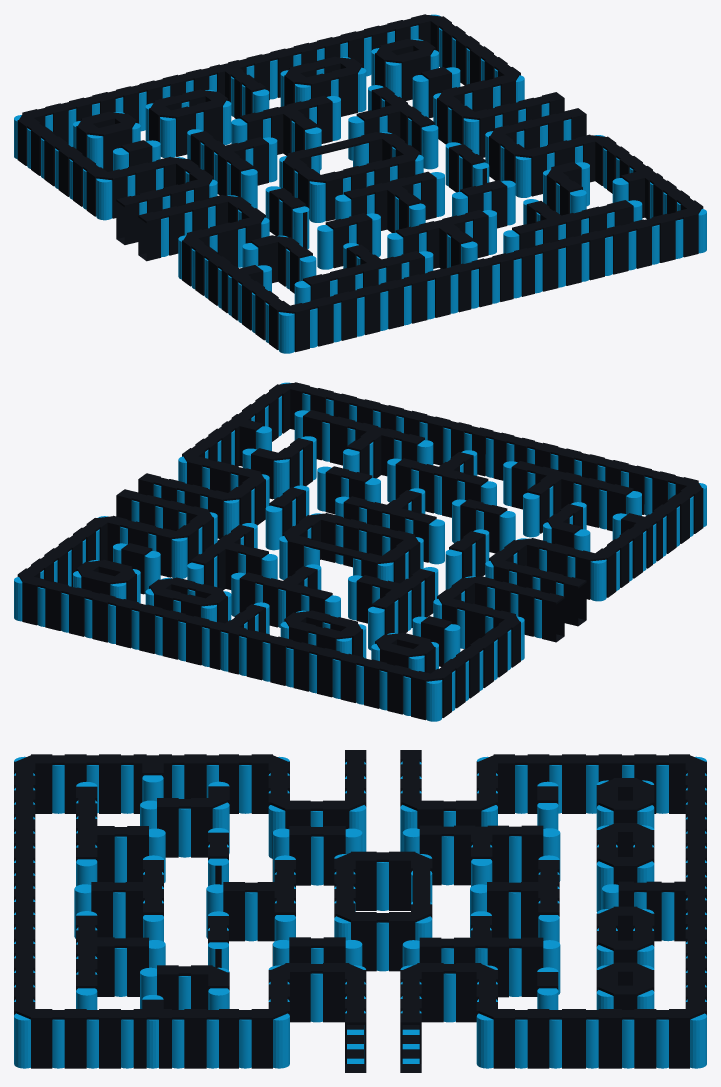
The model's file is Map_V1.fbx.
3 views of the same model, one above another, from view 1: azimuth 30°, elevation 25°; view 2: azimuth 150°, elevation 25°; view 3: azimuth 270°, elevation 25° (orthographic). The views are drawn at different scales.
Parts seen in each view (by area): view 1: Lower, Upper, Center, Small_T1, Small_T2, Small_T3, Small_T, Big_O, Big_T1, Big_T, Small_T4, Big_O1 (+10 smaller); view 2: Upper, Lower, Center, Big_T1, Big_T, Small_T3, Small_T, Small_T2, Small_T1, Small_T4, L_Shape, Big_O (+10 smaller); view 3: Lower, Upper, Center, Small_T3, Small_T4, Big_T1, Big_T, Small_T1, Small_T2, Small_T, L_Shape1, Medium3 (+10 smaller).
Boxes of the visible parts, bbox=[...] form: Lower: bbox=[138, 108, 706, 353]; Upper: bbox=[14, 14, 564, 244]; Center: bbox=[279, 132, 423, 222]; Small_T1: bbox=[335, 171, 444, 232]; Small_T2: bbox=[231, 95, 340, 170]; Small_T3: bbox=[187, 129, 277, 208]; Small_T: bbox=[387, 210, 496, 268]; Big_O: bbox=[145, 89, 231, 158]; Big_T1: bbox=[294, 243, 433, 304]; Big_T: bbox=[503, 199, 642, 253]; Small_T4: bbox=[348, 85, 438, 169]; Big_O1: bbox=[280, 56, 366, 116]; Upper: bbox=[14, 489, 564, 721]; Lower: bbox=[138, 382, 706, 626]; Center: bbox=[279, 513, 423, 583]; Big_T1: bbox=[503, 461, 641, 537]; Big_T: bbox=[294, 410, 433, 478]; Small_T3: bbox=[348, 567, 438, 650]; Small_T: bbox=[387, 450, 496, 517]; Small_T2: bbox=[231, 564, 340, 627]; Small_T1: bbox=[335, 488, 444, 564]; Small_T4: bbox=[187, 523, 277, 590]; L_Shape: bbox=[242, 436, 316, 499]; Big_O: bbox=[280, 610, 366, 658]; Lower: bbox=[14, 750, 366, 1072]; Upper: bbox=[400, 750, 706, 1072]; Center: bbox=[334, 851, 432, 971]; Small_T3: bbox=[402, 825, 560, 886]; Small_T4: bbox=[402, 911, 560, 997]; Big_T1: bbox=[76, 781, 165, 886]; Big_T: bbox=[76, 911, 165, 1009]; Small_T1: bbox=[206, 855, 295, 941]; Small_T2: bbox=[470, 855, 559, 942]; Small_T: bbox=[74, 855, 163, 941]; L_Shape1: bbox=[140, 781, 229, 857]; Medium3: bbox=[272, 826, 362, 885].
Bounding box in the file's own units: 60.74 × 5.25 × 65.31.
